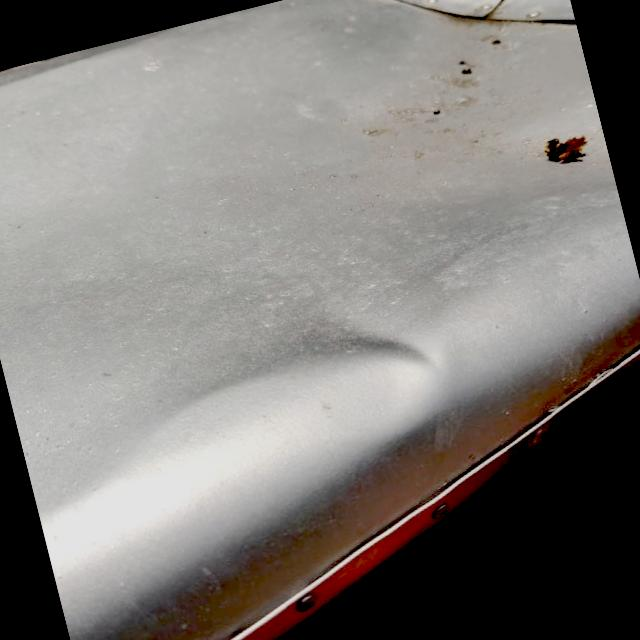dent: (285, 256, 470, 430)
